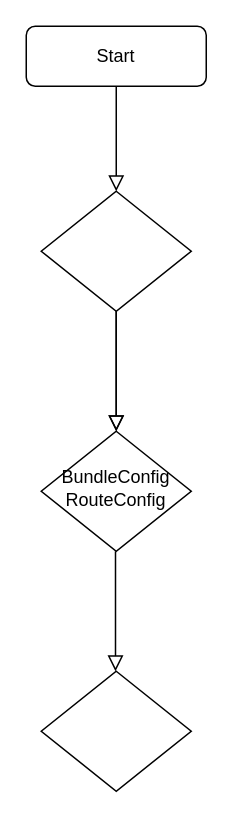
The diagram is 233 pixels wide and 818 high, and some of its shapes have lost their labels. Each missing label, with the centre of its shape:
_ViewStart: the point at 115,730
Global.asax: the point at 115,250
